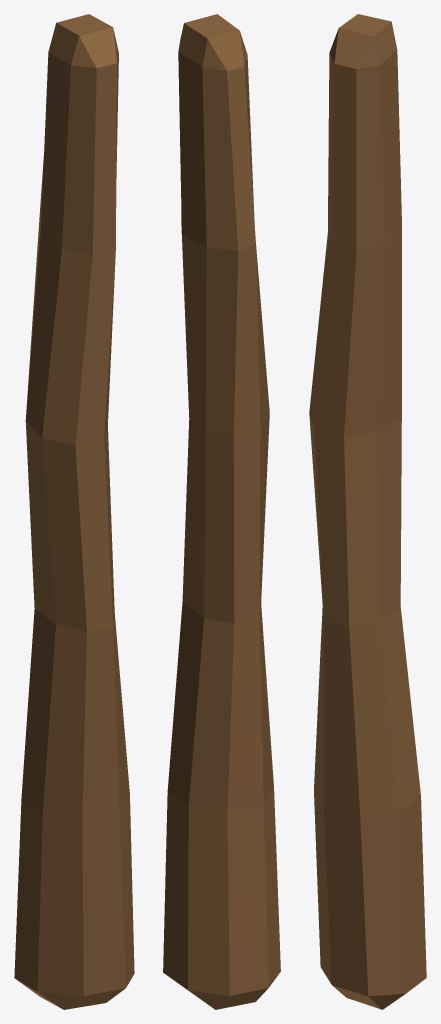
Rendered from Stick.fbx.
The picture shows the model from 3 angles, left to right: view 1: azimuth 30°, elevation 25°; view 2: azimuth 210°, elevation 25°; view 3: azimuth 330°, elevation 25°; orthographic projection.
Visible parts, largest first — view 1: Stick; view 2: Stick; view 3: Stick.
Part boxes in pixels (<box>): Stick: <box>14,14,134,1009</box>; Stick: <box>163,14,280,1009</box>; Stick: <box>309,14,426,1009</box>.
Size of the model in its own units: 10.31 by 102 by 10.95.
